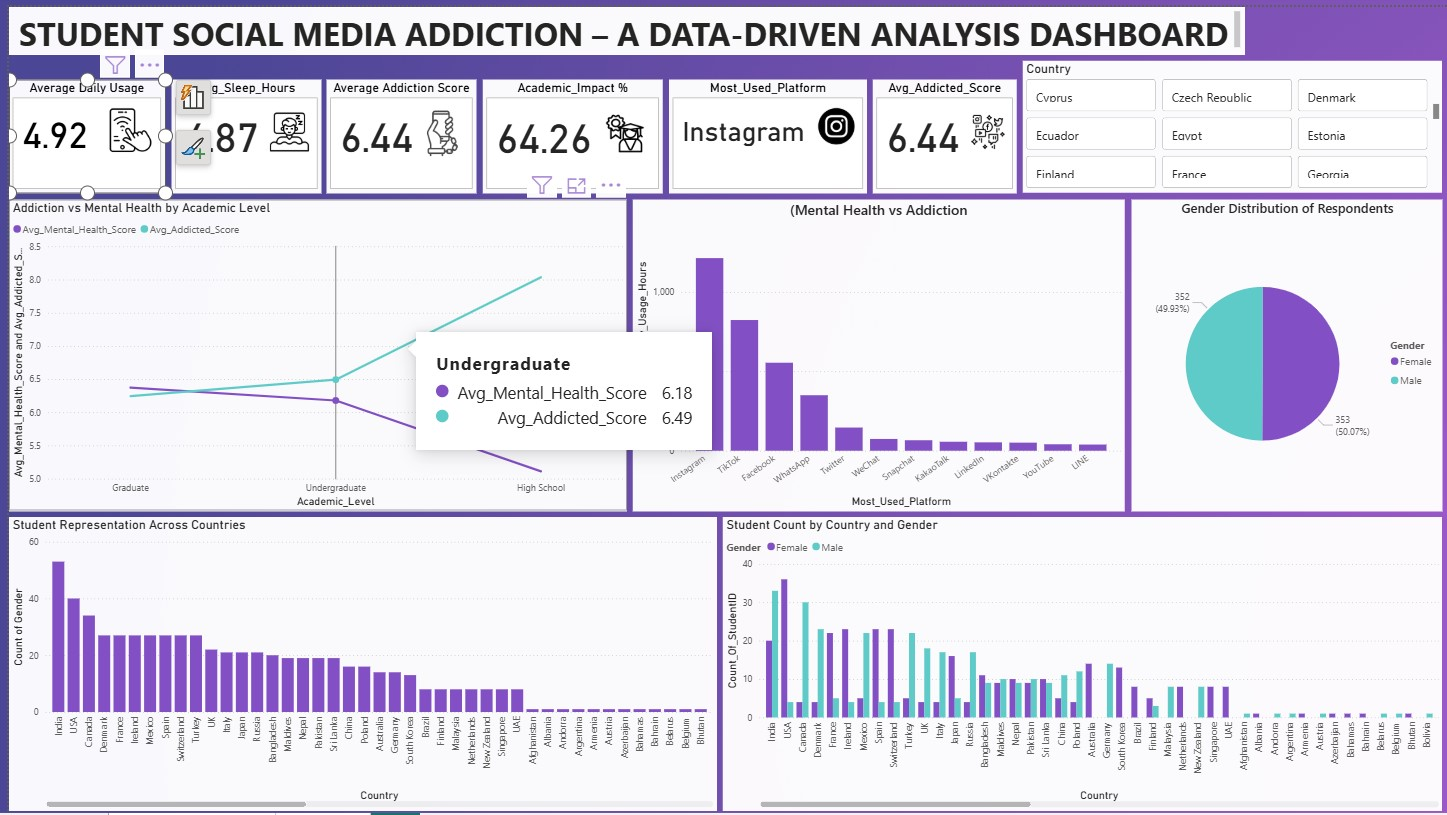

The page's visual inventory and layout, read from the dashboard file:
{"tool":"powerbi","page":{"name":"Detailed Analysis","canvas":[1920,1080],"ordinal":0},"visuals":[{"type":"columnChart","title":"Student Representation Across Countries","fields":{"Y":["CountNonNull(Students Social Media Addiction.Gender)"],"Category":["Students Social Media Addiction.Country"]},"box":[0,680,944,392],"z":0},{"type":"pieChart","title":"Gender Distribution of Respondents","fields":{"Category":["Students Social Media Addiction.Gender"],"Y":["Students Social Media Addiction.Count_Of_StudentID"]},"box":[1496,256,416,416],"z":2000},{"type":"cardVisual","title":"Average Addiction Score","fields":{"Data":["Students Social Media Addiction.Avg_Addicted_Score"]},"box":[424,96,200,152],"z":3000},{"type":"cardVisual","title":"Avg_Sleep_Hours","fields":{"Data":["Students Social Media Addiction.Avg_Sleep_Hours"]},"box":[216,96,200,152],"z":4000},{"type":"cardVisual","title":"Academic_Impact %","fields":{"Data":["Students Social Media Addiction.Academic_Impact_Percentage"]},"box":[632,96,240,152],"z":5000},{"type":"cardVisual","title":"Avg_Addicted_Score","fields":{"Data":["Students Social Media Addiction.Avg_Addicted_Score"]},"box":[1152,96,192,152],"z":6000},{"type":"cardVisual","title":"Most_Used_Platform","fields":{"Data":["Students Social Media Addiction.Top_Social_Media_Platform"]},"box":[880,96,264,152],"z":7000},{"type":"clusteredColumnChart","title":"Student Count by Country and Gender","fields":{"Category":["Students Social Media Addiction.Country"],"Y":["Students Social Media Addiction.Count_Of_StudentID"],"Series":["Students Social Media Addiction.Gender"]},"box":[952,680,960,392],"z":8000},{"type":"textbox","box":[0,0,1648,64],"z":9000},{"type":"columnChart","title":"(Mental Health vs Addiction","fields":{"Category":["Students Social Media Addiction.Most_Used_Platform"],"Y":["Students Social Media Addiction.Sum_of_Avg_Daily_Usage_Hours"]},"box":[832,256,656,416],"z":10000},{"type":"lineChart","title":"Addiction vs Mental Health by Academic Level","fields":{"Category":["Students Social Media Addiction.Academic_Level"],"Y":["Students Social Media Addiction.Avg_Mental_Health_Score","Students Social Media Addiction.Avg_Addicted_Score"]},"box":[0,256,824,416],"z":11000},{"type":"cardVisual","title":"Average Daily Usage","fields":{"Data":["Students Social Media Addiction.Avg_Daily_Usage"]},"box":[0,96,208,152],"z":13000},{"type":"advancedSlicerVisual","fields":{"Values":["Students Social Media Addiction.Country"]},"box":[1352,72,560,176],"z":13001}]}

Visuals, with their boxes on the page's 1920x1080 design canvas (x1, y1, x2, y2). These are canvas units, not pixel positions in the 1447x815 screenshot, which may show the page scaled, cropped or inside an application window:
"Student Representation Across Countries" columnChart: [x1=0, y1=680, x2=944, y2=1072]
"Gender Distribution of Respondents" pieChart: [x1=1496, y1=256, x2=1912, y2=672]
"Average Addiction Score" cardVisual: [x1=424, y1=96, x2=624, y2=248]
"Avg_Sleep_Hours" cardVisual: [x1=216, y1=96, x2=416, y2=248]
"Academic_Impact %" cardVisual: [x1=632, y1=96, x2=872, y2=248]
"Avg_Addicted_Score" cardVisual: [x1=1152, y1=96, x2=1344, y2=248]
"Most_Used_Platform" cardVisual: [x1=880, y1=96, x2=1144, y2=248]
"Student Count by Country and Gender" clusteredColumnChart: [x1=952, y1=680, x2=1912, y2=1072]
textbox: [x1=0, y1=0, x2=1648, y2=64]
"(Mental Health vs Addiction" columnChart: [x1=832, y1=256, x2=1488, y2=672]
"Addiction vs Mental Health by Academic Level" lineChart: [x1=0, y1=256, x2=824, y2=672]
"Average Daily Usage" cardVisual: [x1=0, y1=96, x2=208, y2=248]
advancedSlicerVisual - Students Social Media Addiction.Country: [x1=1352, y1=72, x2=1912, y2=248]
